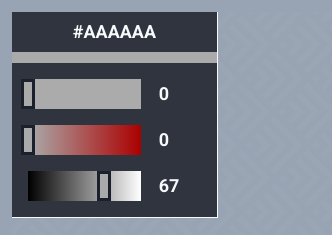
it: Swatch hex modifier allows for direct hexcode modificiation › If focus leaves the input, the last valid hex code to occupy that swatch is re-added
Replace the text in the field named "Modify Swatch Hex Code" with "#CCC" at (114, 32), box 12,12 -> 217,52
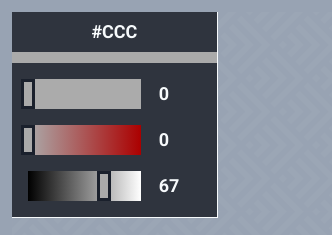
Leave the field named "Modify Swatch Hex Code", box 12,12 -> 217,52
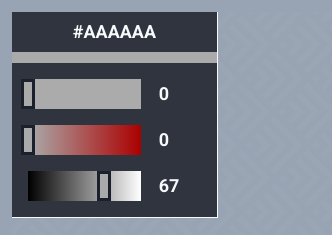
Check: the field named "Modify Swatch Hex Code" holds "#AAAAAA", box 12,12 -> 217,52
